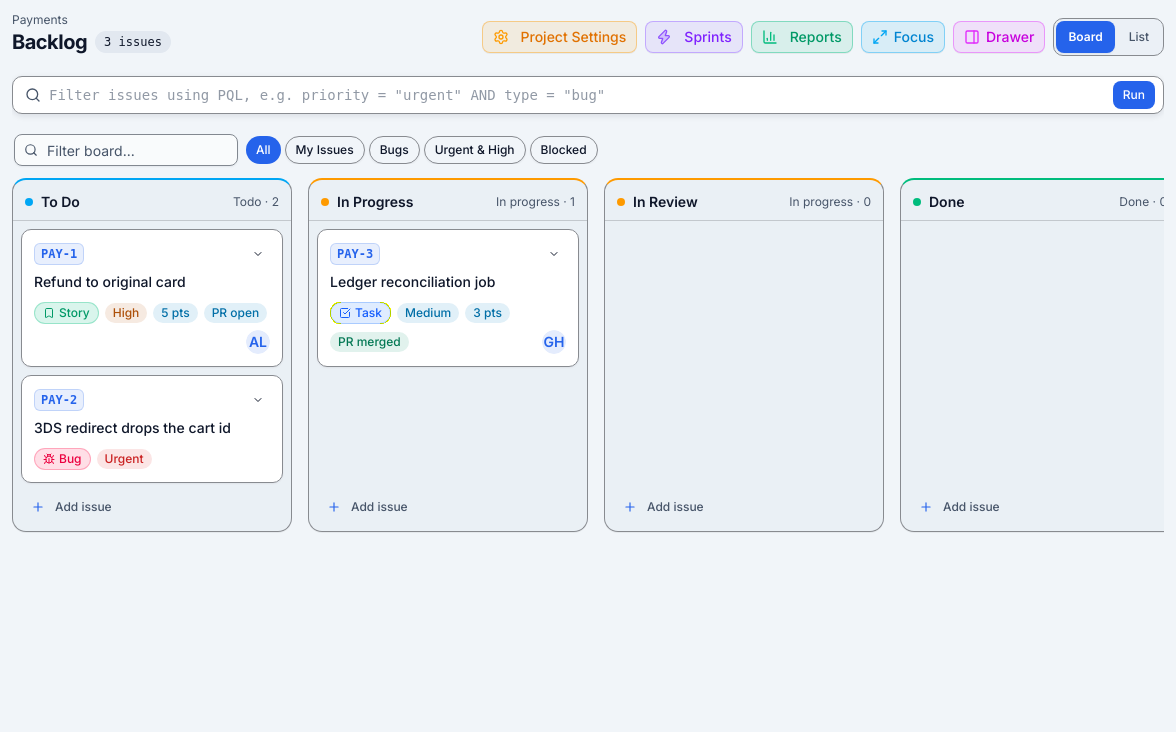
Test case: <ListView> list view › draws the same issues as rows without fetching the board again
Expected: the button "Refund to original card" is shown, x1=34 y1=272 x2=270 y2=292
What coordinates should you click on to do the following:
click the button "List"
I would click on:
 (1139, 37)
Its box is x1=1117 y1=21 x2=1161 y2=53.
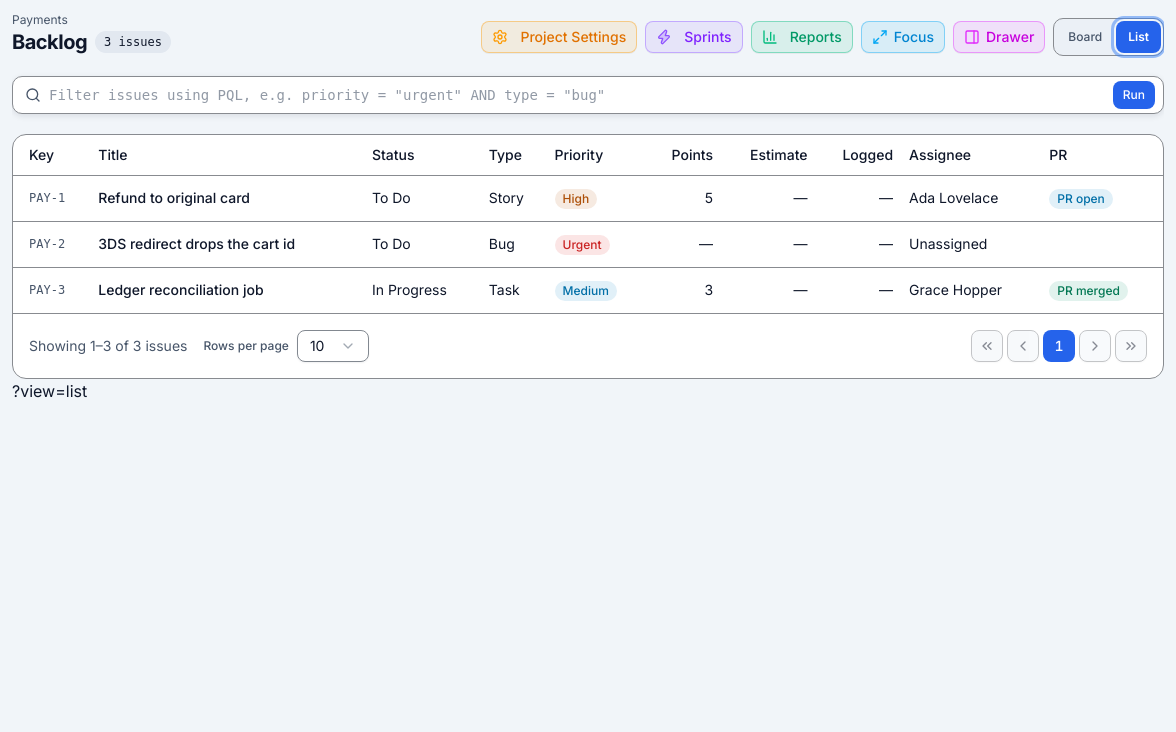
Expected: the text "In Progress" is shown, x1=364 y1=267 x2=481 y2=312
Result: the text with test id "search" reads "?view=list" at x1=12 y1=380 x2=87 y2=400
